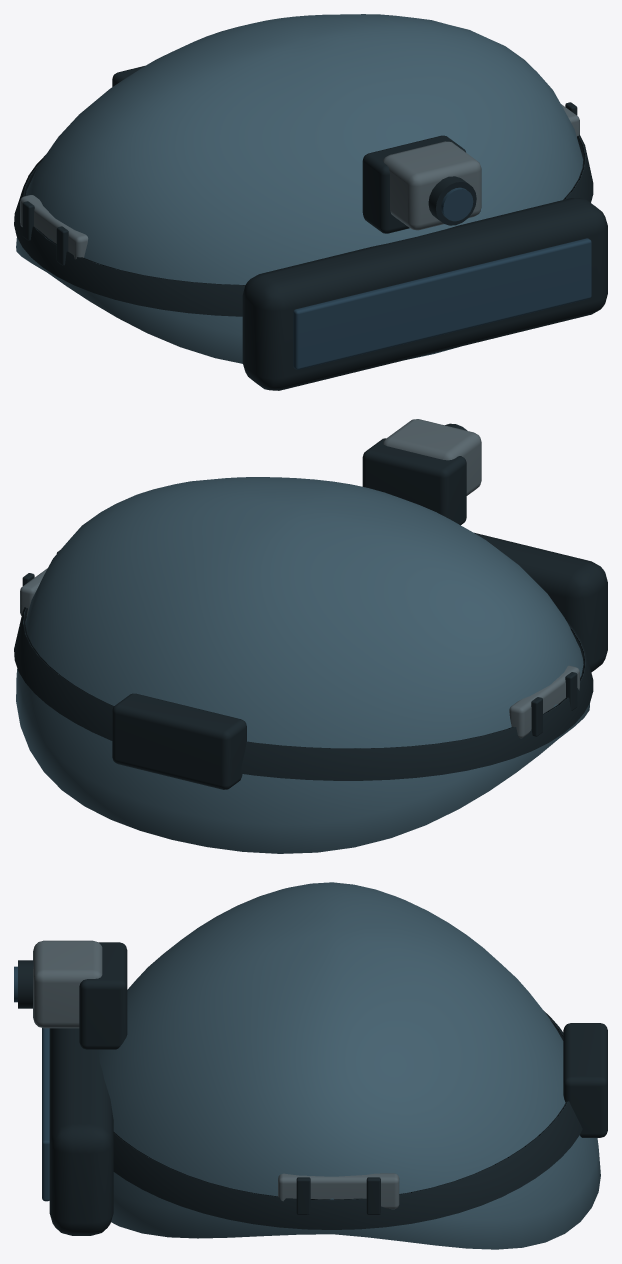
The model's file is goose-heavy-helmet.glb.
The picture shows the model from 3 angles, top to bottom: view 1: azimuth 30°, elevation 25°; view 2: azimuth 150°, elevation 25°; view 3: azimuth 270°, elevation 25°; orthographic projection. The views are drawn at different scales.
Parts seen in each view (by area): view 1: goose_helmet_heavy_mesh; view 2: goose_helmet_heavy_mesh; view 3: goose_helmet_heavy_mesh.
Part boxes in pixels (left/top/right/bottom): goose_helmet_heavy_mesh: left=14, top=14, right=607, bottom=390; goose_helmet_heavy_mesh: left=14, top=419, right=607, bottom=853; goose_helmet_heavy_mesh: left=14, top=882, right=607, bottom=1249.
Size of the model in its own units: 0.9655 by 0.4225 by 0.931.
